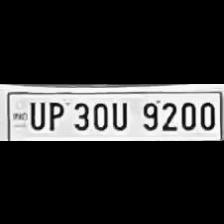0: (90, 98, 110, 130), (176, 98, 196, 130), (198, 98, 216, 130)
2: (159, 98, 177, 132)
3: (69, 98, 89, 130)
9: (137, 98, 159, 130)
P: (45, 98, 65, 130)
U: (109, 98, 131, 130), (26, 97, 44, 129)
